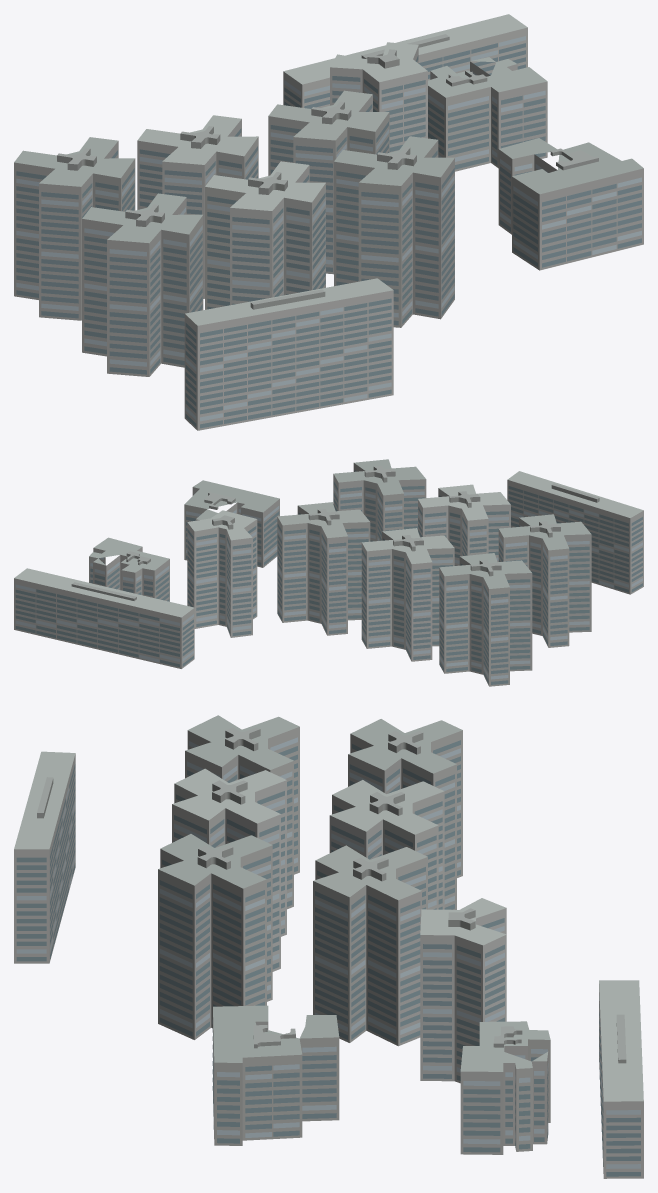
The model's file is apt-a12204006.glb.
3 views of the same model, one above another, from view 1: azimuth 30°, elevation 25°; view 2: azimuth 150°, elevation 25°; view 3: azimuth 270°, elevation 25° (orthographic). The views are drawn at different scales.
Parts seen in each view (by area): view 1: apt-a12204006; view 2: apt-a12204006; view 3: apt-a12204006.
Boxes of the visible parts, x1,y1,x2,y2 form: apt-a12204006: [14, 14, 643, 430]; apt-a12204006: [14, 459, 643, 686]; apt-a12204006: [14, 715, 643, 1178].
Size of the model in its own units: 228 by 54 by 191.
